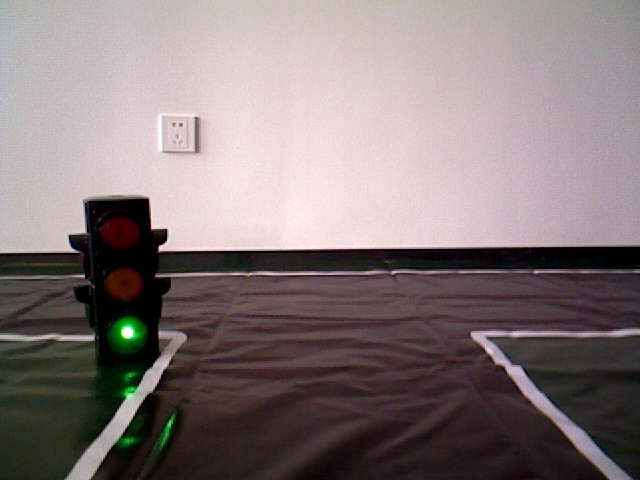green: (83, 198, 156, 359)
